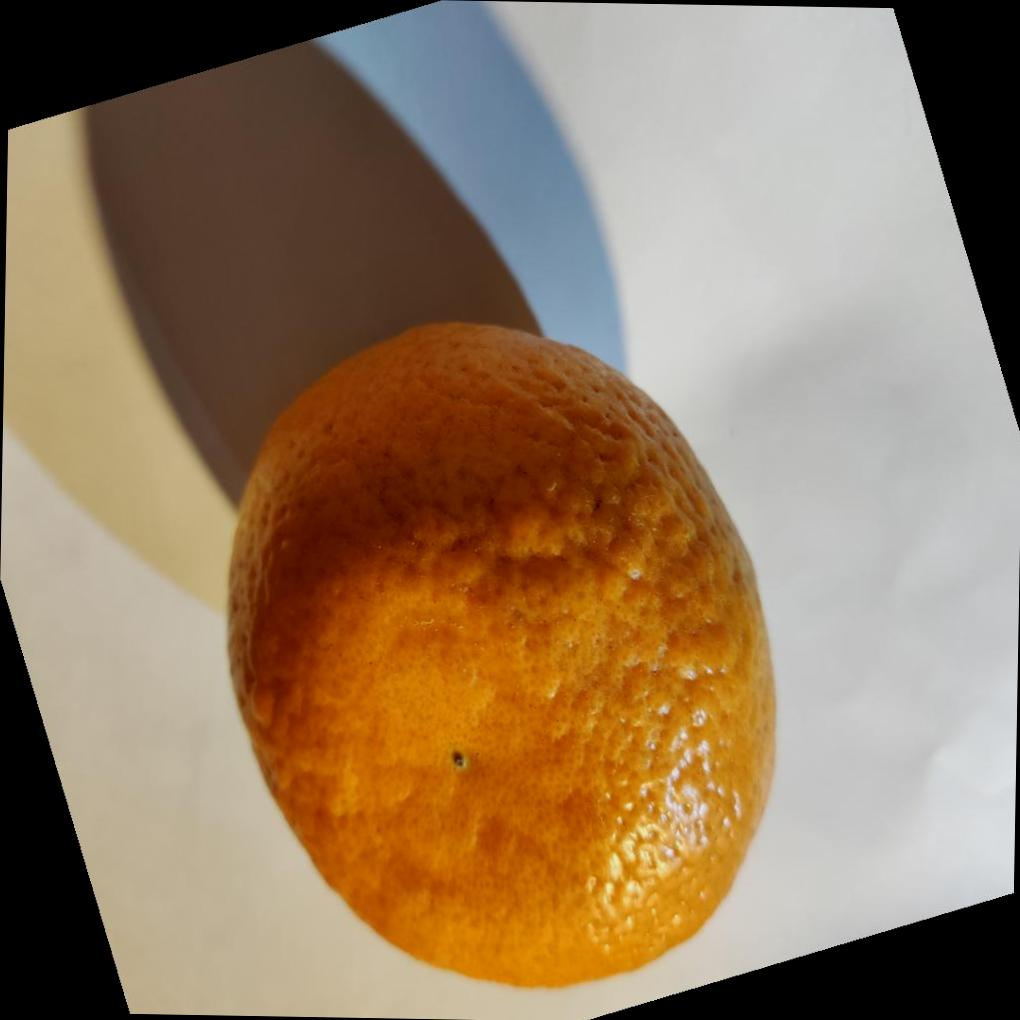FreshGuava: (224, 315, 778, 989)
